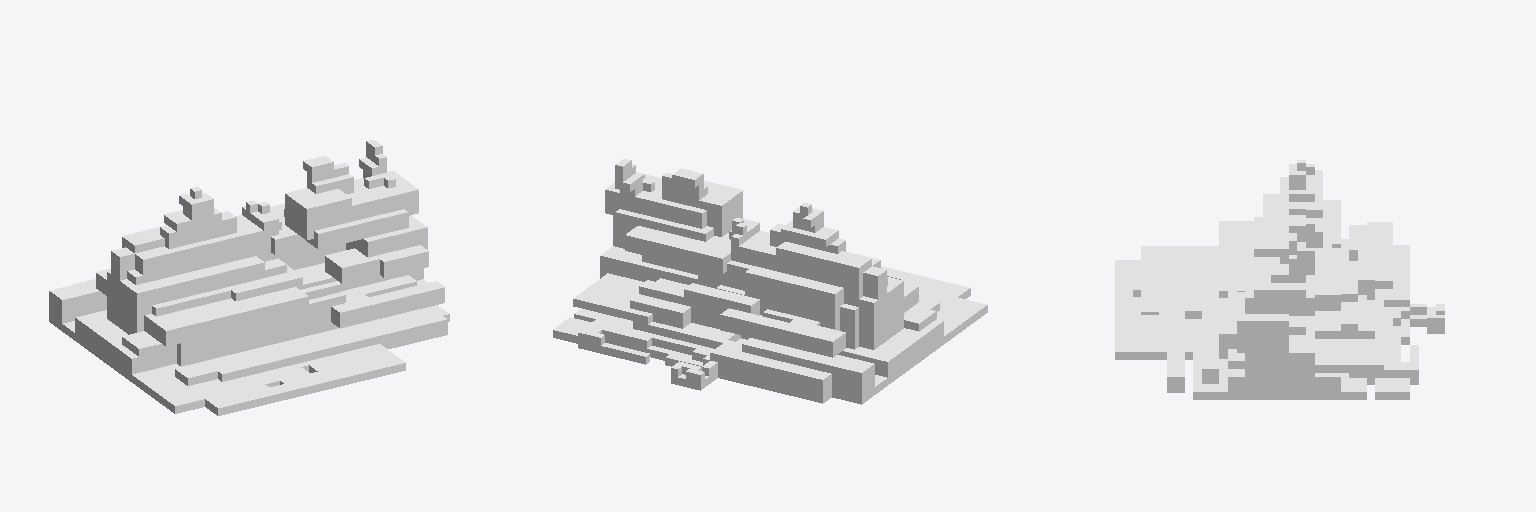
File: snowbou.obj
The picture shows the model from 3 angles: view 1: azimuth 30°, elevation 25°; view 2: azimuth 150°, elevation 25°; view 3: azimuth 270°, elevation 25°; orthographic projection.
Parts seen in each view (by area): view 1: object 1; view 2: object 1; view 3: object 1.
Boxes of the visible parts, x1=… form: object 1: x1=49, y1=140, x2=449, y2=415; object 1: x1=553, y1=159, x2=987, y2=404; object 1: x1=1115, y1=160, x2=1444, y2=399.
Size of the model in its own units: 4 by 1.8 by 3.8.